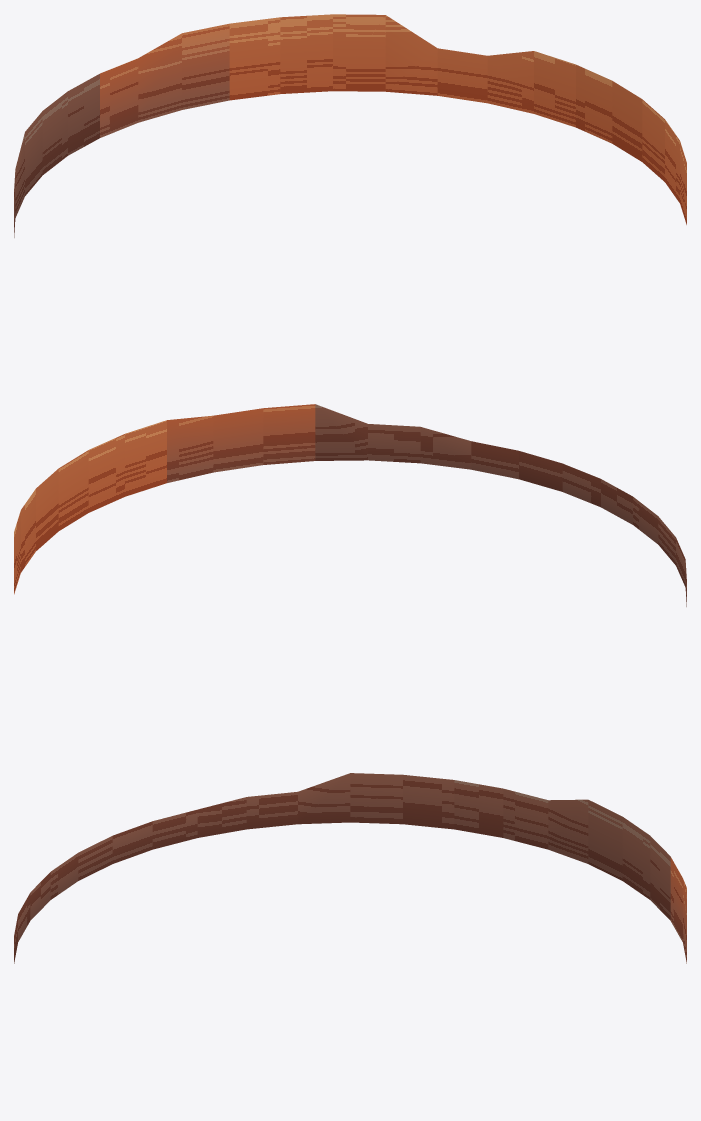
Rendered from wsky.mesas__canyon.glb.
3 renders of one model, top to bottom at view 1: azimuth 30°, elevation 25°; view 2: azimuth 150°, elevation 25°; view 3: azimuth 270°, elevation 25°, orthographic.
Visible parts, largest first — view 1: kit_shell_mesas; view 2: kit_shell_mesas; view 3: kit_shell_mesas.
Boxes of the visible parts, bbox=[...] form: kit_shell_mesas: bbox=[14, 14, 686, 237]; kit_shell_mesas: bbox=[14, 404, 686, 606]; kit_shell_mesas: bbox=[14, 773, 686, 963].
Bounding box in the file's own units: 104 × 13.09 × 104.
1 material, 1 textured.
